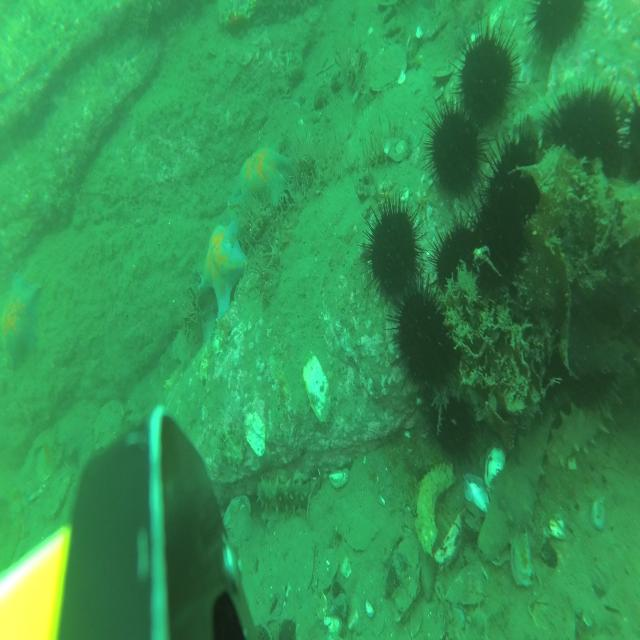echinus: (384, 279, 464, 413), (356, 184, 428, 319), (451, 11, 526, 140), (548, 81, 620, 210), (480, 120, 549, 244), (424, 96, 494, 210), (466, 182, 530, 305), (430, 209, 487, 326), (428, 384, 479, 473), (566, 328, 619, 409), (525, 0, 595, 56), (523, 328, 567, 402), (615, 83, 640, 208)
holothurian: (480, 401, 556, 560), (510, 76, 625, 148), (545, 371, 628, 469), (257, 476, 320, 517)
scallop: (220, 492, 253, 548), (370, 45, 406, 95), (92, 401, 124, 455)
starfish: (228, 145, 298, 217), (199, 223, 247, 317), (0, 269, 42, 370)
